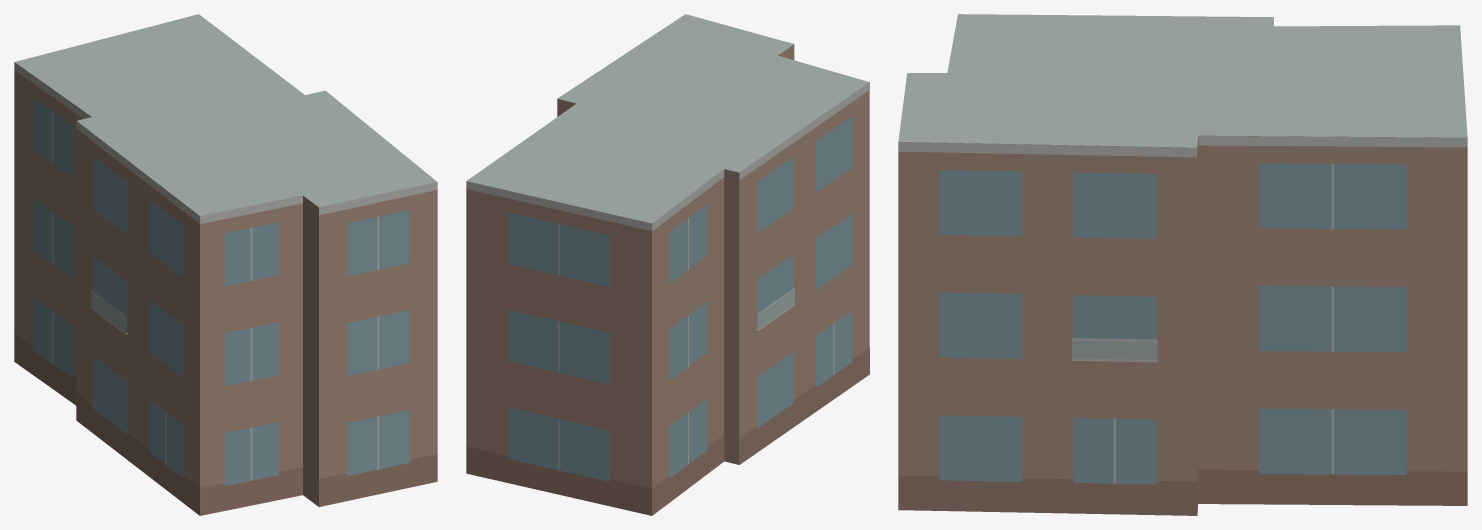
File: survey-upis-33028512.glb
The picture shows the model from 3 angles, left to right: view 1: azimuth 30°, elevation 25°; view 2: azimuth 150°, elevation 25°; view 3: azimuth 270°, elevation 25°; orthographic projection. The views are drawn at different scales.
Visible parts, largest first — view 1: survey-upis-33028512.tmp; view 2: survey-upis-33028512.tmp; view 3: survey-upis-33028512.tmp.
Boxes of the visible parts, box(x1,y1,x2,y2) form: survey-upis-33028512.tmp: box(14, 14, 437, 515); survey-upis-33028512.tmp: box(466, 14, 869, 515); survey-upis-33028512.tmp: box(898, 14, 1467, 515).
Size of the model in its own units: 7.13 by 9.15 by 12.83.
